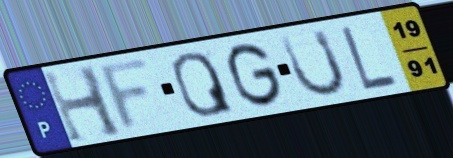F: (96, 54, 156, 135)
G: (225, 40, 286, 110)
H: (39, 63, 128, 146)
L: (337, 23, 402, 92)
Q: (169, 50, 238, 119)
U: (276, 26, 349, 100)
